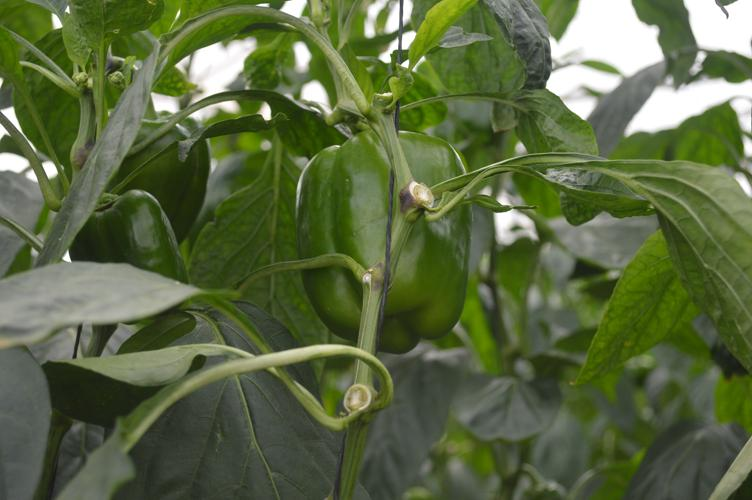BellPepper: (288, 129, 473, 350), (63, 191, 187, 290), (110, 115, 210, 237)
